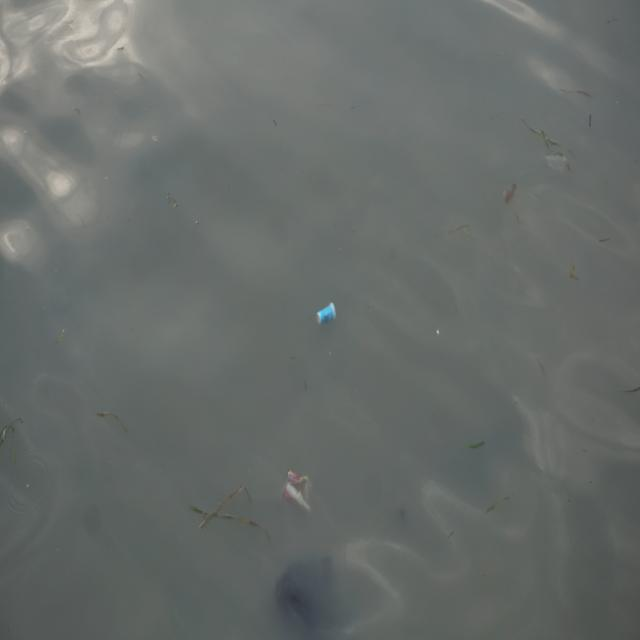Bungkus Makanan: (281, 465, 317, 515)
Bungkus Minuman: (317, 298, 340, 330), (547, 152, 570, 174)
